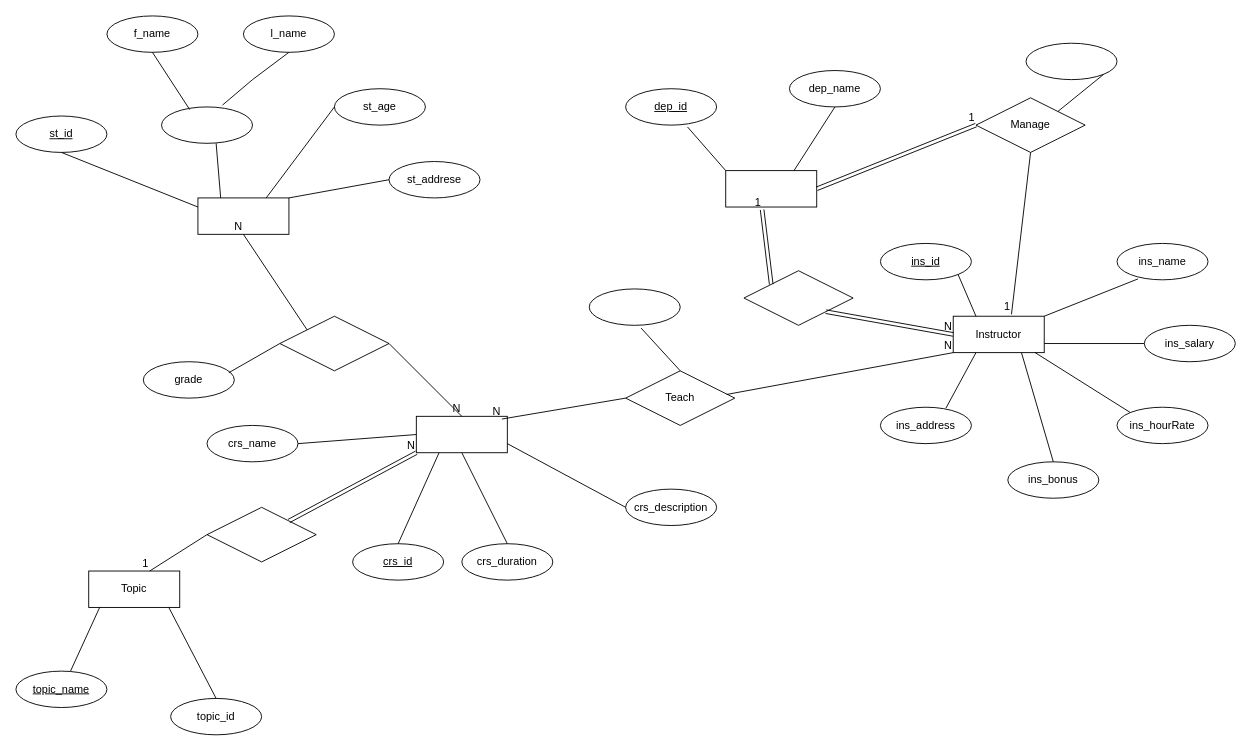
Image size: 1251x751. Some labels were removed from this diagram. The centre of each missing label's shape, as x and y in pixels:
classifiy: (261,534)
Contains: (798,297)
Course: (461,434)
Department: (771,188)
evoluation: (634,306)
hiring_date: (1071,61)
Student: (243,215)
student_name: (207,124)
Take: (334,343)
